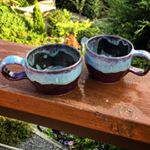cups: (1, 40, 84, 97), (84, 33, 150, 85)
